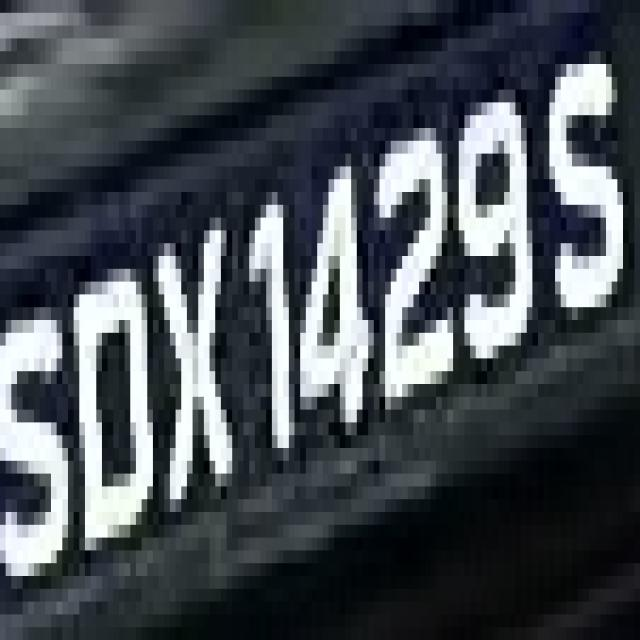1: (238, 141, 300, 499)
2: (362, 90, 464, 448)
4: (277, 154, 374, 460)
9: (447, 51, 527, 422)
D: (56, 256, 158, 576)
S: (538, 26, 629, 358), (0, 6, 1, 13)
X: (136, 192, 238, 512)
